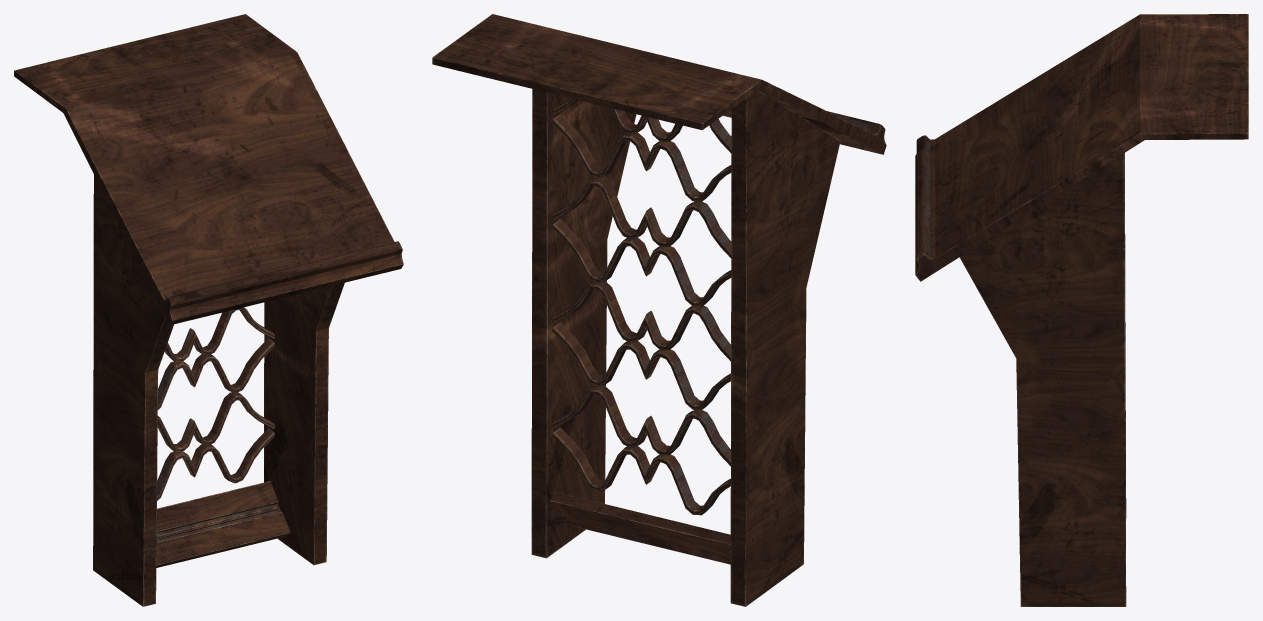
File: StudyProps.fbx
3 views of the same model, side by side, from view 1: azimuth 30°, elevation 25°; view 2: azimuth 150°, elevation 25°; view 3: azimuth 270°, elevation 25° (orthographic). The views are drawn at different scales.
Visible parts, largest first — view 1: SM_StudyNoteTable_LOD0; view 2: SM_StudyNoteTable_LOD0; view 3: SM_StudyNoteTable_LOD0.
Boxes of the visible parts, bbox=[...] form: SM_StudyNoteTable_LOD0: bbox=[14, 14, 403, 606]; SM_StudyNoteTable_LOD0: bbox=[432, 14, 886, 606]; SM_StudyNoteTable_LOD0: bbox=[915, 14, 1248, 606].
Size of the model in its own units: 87.63 by 167 by 104.
